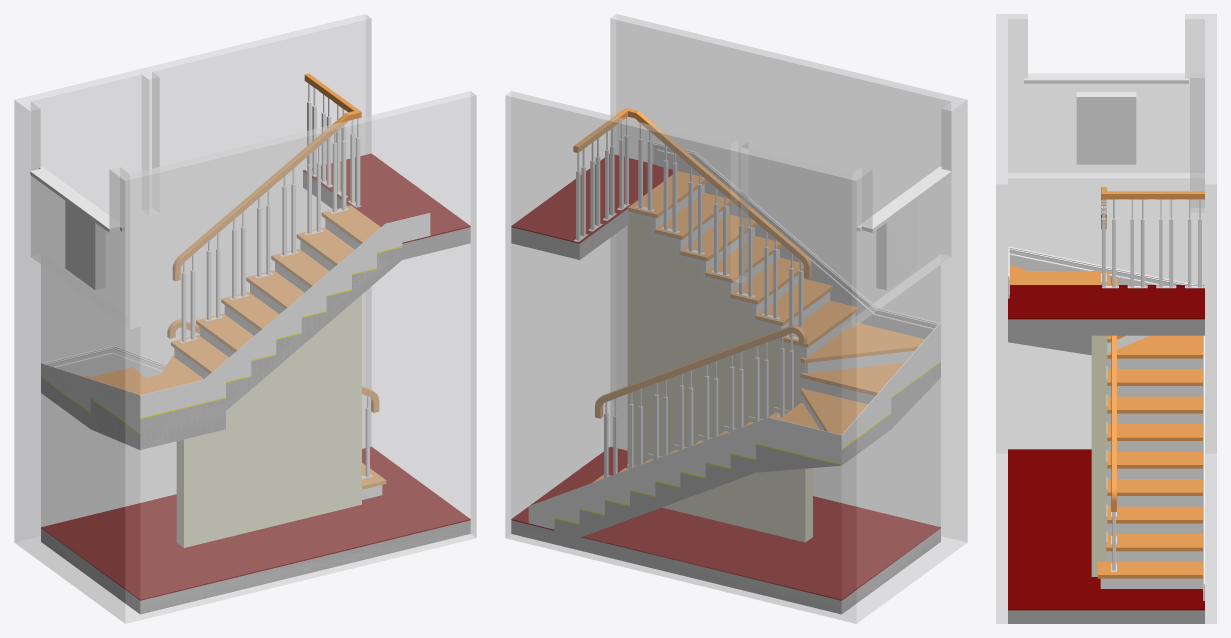
Rendered from обустройство лестницы на бетонном основании берегфм.obj.
3 renders of one model, left to right at view 1: azimuth 30°, elevation 25°; view 2: azimuth 150°, elevation 25°; view 3: azimuth 270°, elevation 25°, orthographic.
Bounding box in the file's own units: 4.05 × 4.88 × 2.22.
